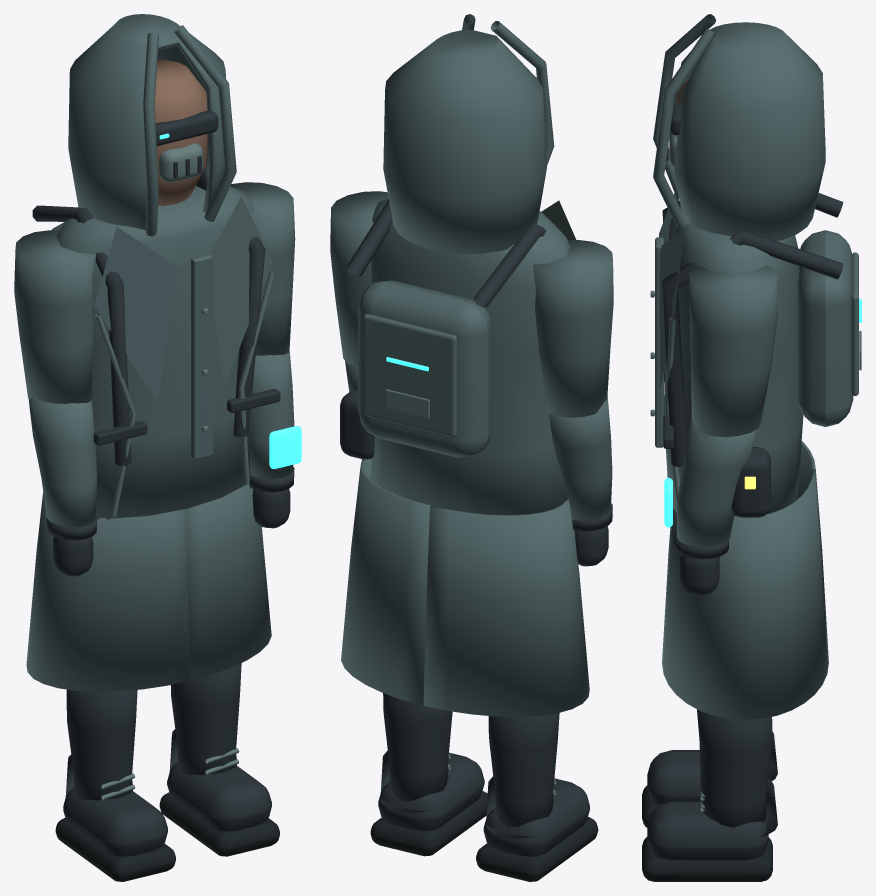
File: courier.glb
3 renders of one model, left to right at view 1: azimuth 30°, elevation 25°; view 2: azimuth 150°, elevation 25°; view 3: azimuth 270°, elevation 25°, orthographic.
Visible parts, largest first — view 1: Tailored torso, Continuous raincoat hem, Continuous raincoat hem.001, Upper sleeve, Trouser cuff, Trouser cuff.001, Underlayer collar, Forearm sleeve, Upper sleeve.001, Head in shadow, Forearm sleeve.001, Panel seam (+5 smaller); view 2: Tailored torso, Continuous raincoat hem, Continuous raincoat hem.001, Upper sleeve, Trouser cuff, Trouser cuff.001, Forearm sleeve, Upper sleeve.001, Underlayer collar, Boot sole, Boot sole.001, Ribbed cuff (+1 smaller); view 3: Tailored torso, Continuous raincoat hem.001, Upper sleeve.001, Trouser cuff.001, Underlayer collar, Forearm sleeve.001, Boot sole.001, Trouser cuff, Ribbed cuff.001, Panel seam, Continuous raincoat hem.
Part boxes in pixels (<box>): Tailored torso: <box>51,14,273,518</box>; Continuous raincoat hem: <box>26,492,190,691</box>; Continuous raincoat hem.001: <box>185,484,271,680</box>; Upper sleeve: <box>14,230,94,403</box>; Trouser cuff: <box>63,689,167,856</box>; Trouser cuff.001: <box>167,663,271,831</box>; Underlayer collar: <box>32,110,280,465</box>; Forearm sleeve: <box>28,397,97,527</box>; Upper sleeve.001: <box>230,182,295,355</box>; Head in shadow: <box>154,60,207,205</box>; Forearm sleeve.001: <box>249,349,294,479</box>; Panel seam: <box>95,143,274,516</box>; Tailored torso: <box>358,14,576,514</box>; Continuous raincoat hem: <box>423,500,589,716</box>; Continuous raincoat hem.001: <box>341,458,431,705</box>; Upper sleeve: <box>533,240,613,417</box>; Trouser cuff: <box>483,713,589,856</box>; Trouser cuff.001: <box>378,693,484,830</box>; Forearm sleeve: <box>549,396,612,520</box>; Upper sleeve.001: <box>330,191,388,367</box>; Underlayer collar: <box>340,199,571,459</box>; Boot sole: <box>476,817,598,881</box>; Boot sole.001: <box>370,791,487,856</box>; Ribbed cuff: <box>572,503,612,566</box>; Tailored torso: <box>653,14,858,515</box>; Continuous raincoat hem.001: <box>662,469,828,719</box>; Upper sleeve.001: <box>689,265,777,437</box>; Trouser cuff.001: <box>647,709,777,860</box>; Underlayer collar: <box>662,86,843,517</box>; Forearm sleeve.001: <box>676,418,757,546</box>; Boot sole.001: <box>642,837,772,881</box>; Trouser cuff: <box>647,731,777,805</box>; Ribbed cuff.001: <box>674,532,729,595</box>; Panel seam: <box>650,131,861,502</box>; Continuous raincoat hem: <box>796,441,815,499</box>.
Bounding box in the file's own units: 0.6483 × 1.87 × 0.453.
